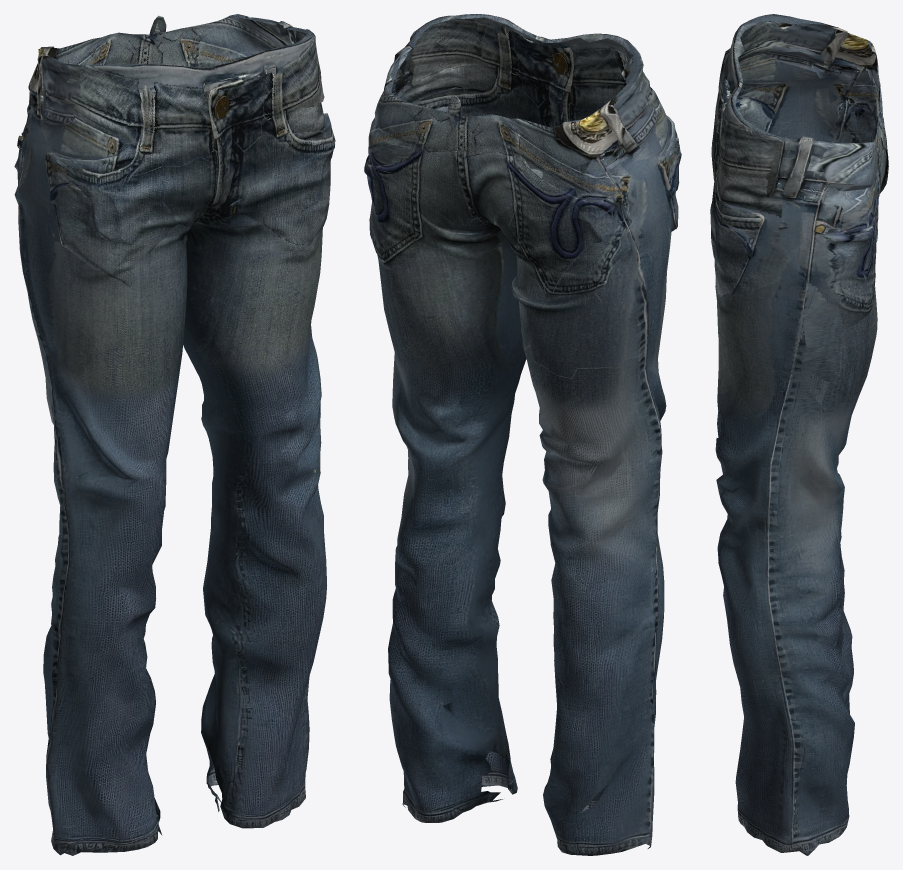
3 renders of one model, left to right at view 1: azimuth 30°, elevation 25°; view 2: azimuth 150°, elevation 25°; view 3: azimuth 270°, elevation 25°, orthographic. The views are drawn at different scales.
Parts seen in each view (by area): view 1: Roupa_002; view 2: Roupa_002; view 3: Roupa_002.
Boxes of the visible parts, bbox=[...] form: Roupa_002: bbox=[14, 14, 335, 855]; Roupa_002: bbox=[364, 14, 681, 855]; Roupa_002: bbox=[710, 14, 888, 855].
Size of the model in its own units: 0.3469 by 0.9394 by 0.204.
22 materials, 22 textured.
